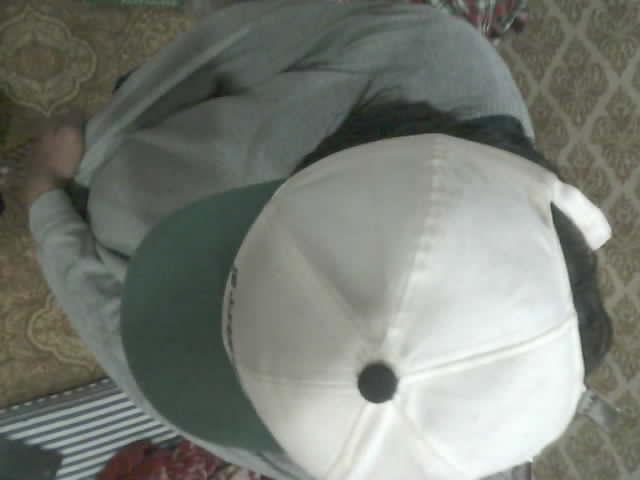cap: (119, 132, 611, 479)
